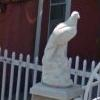Statue: (31, 9, 90, 91)
